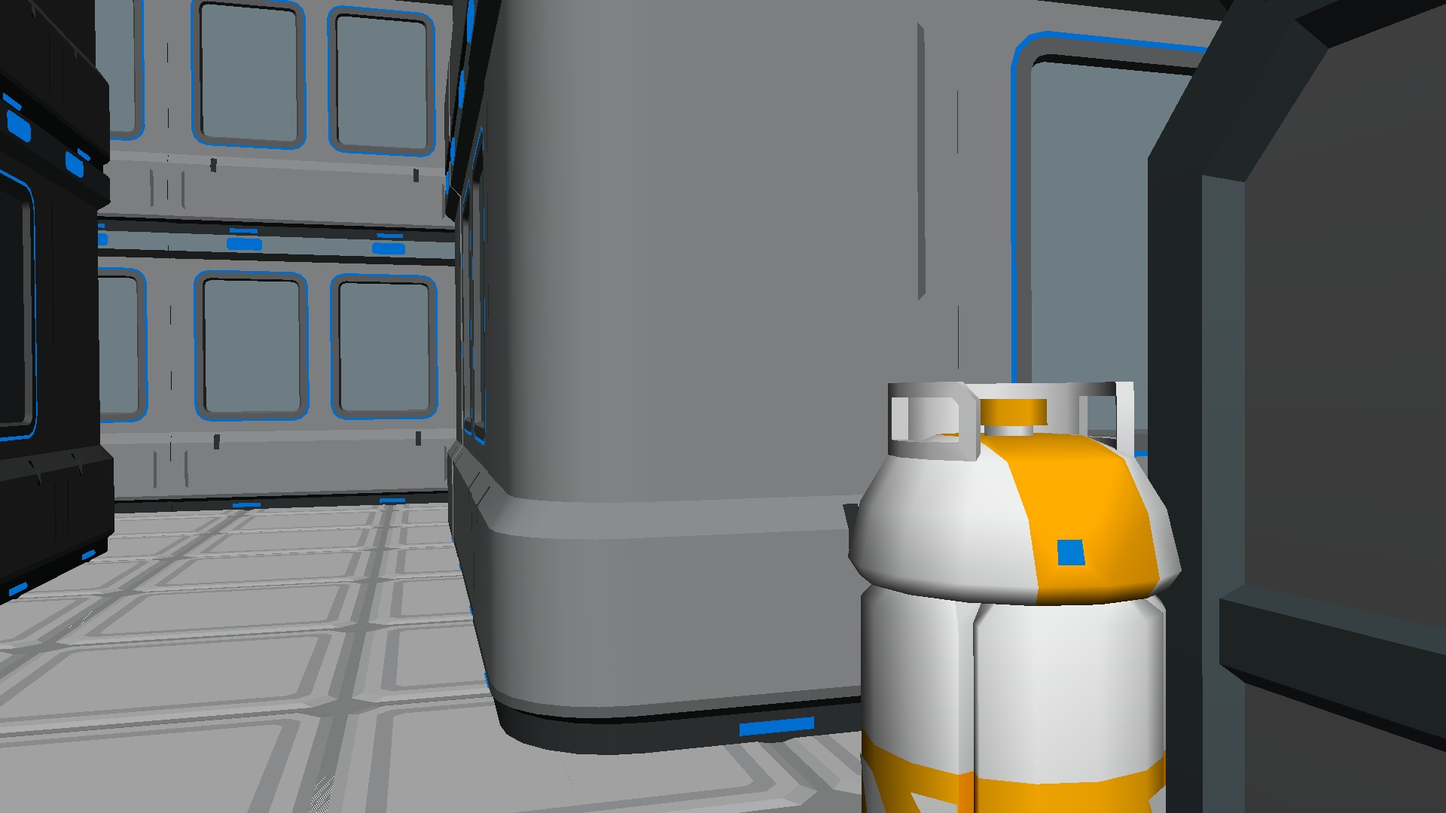yellow barrel: (841, 381, 1183, 813)
